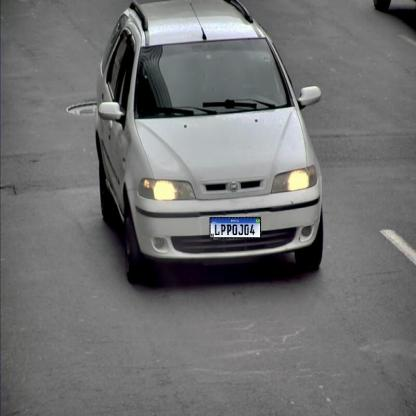PlacaM: (210, 217, 261, 239)
